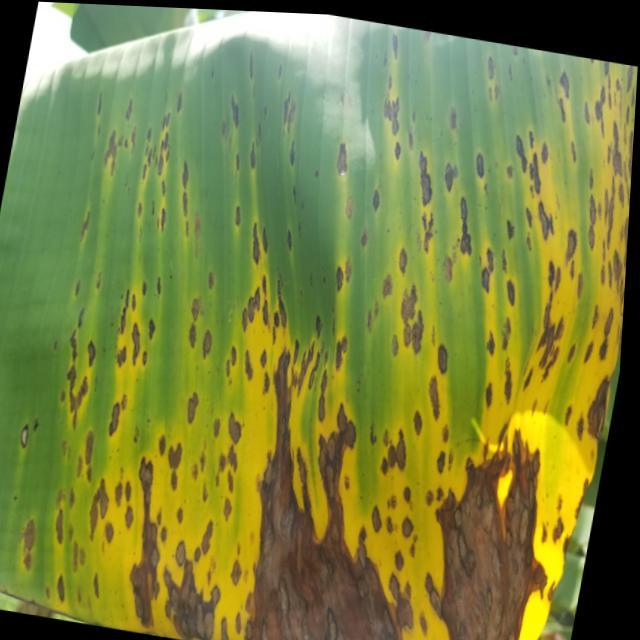Early_rust: (7, 31, 640, 640)
